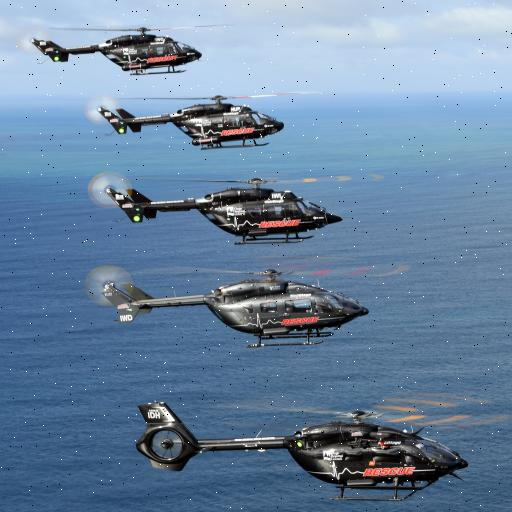helicopter: (129, 393, 511, 512), (89, 259, 417, 348), (81, 168, 396, 248), (88, 90, 330, 154), (35, 23, 237, 78)
